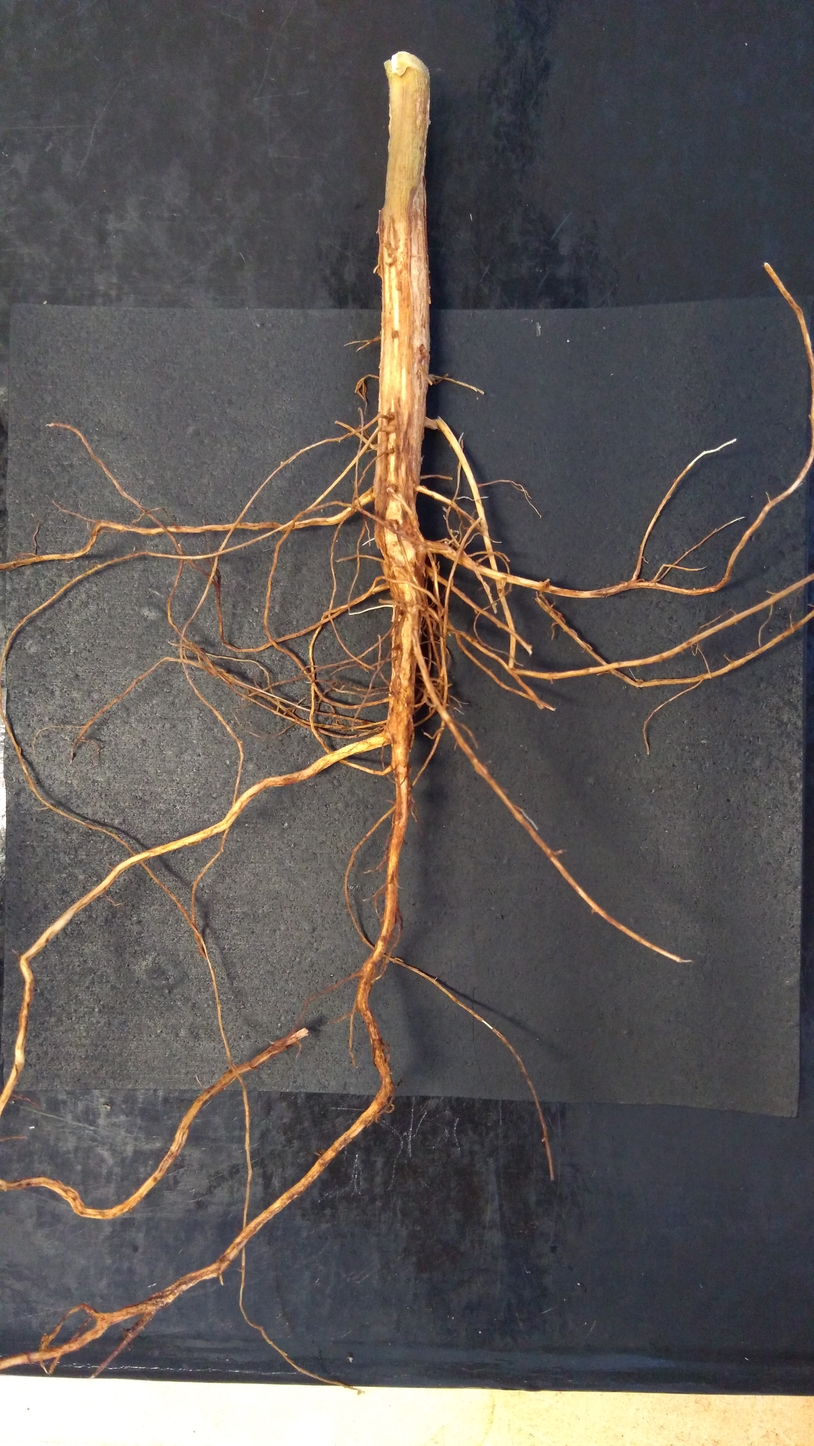nodule: (444, 541, 448, 544)
